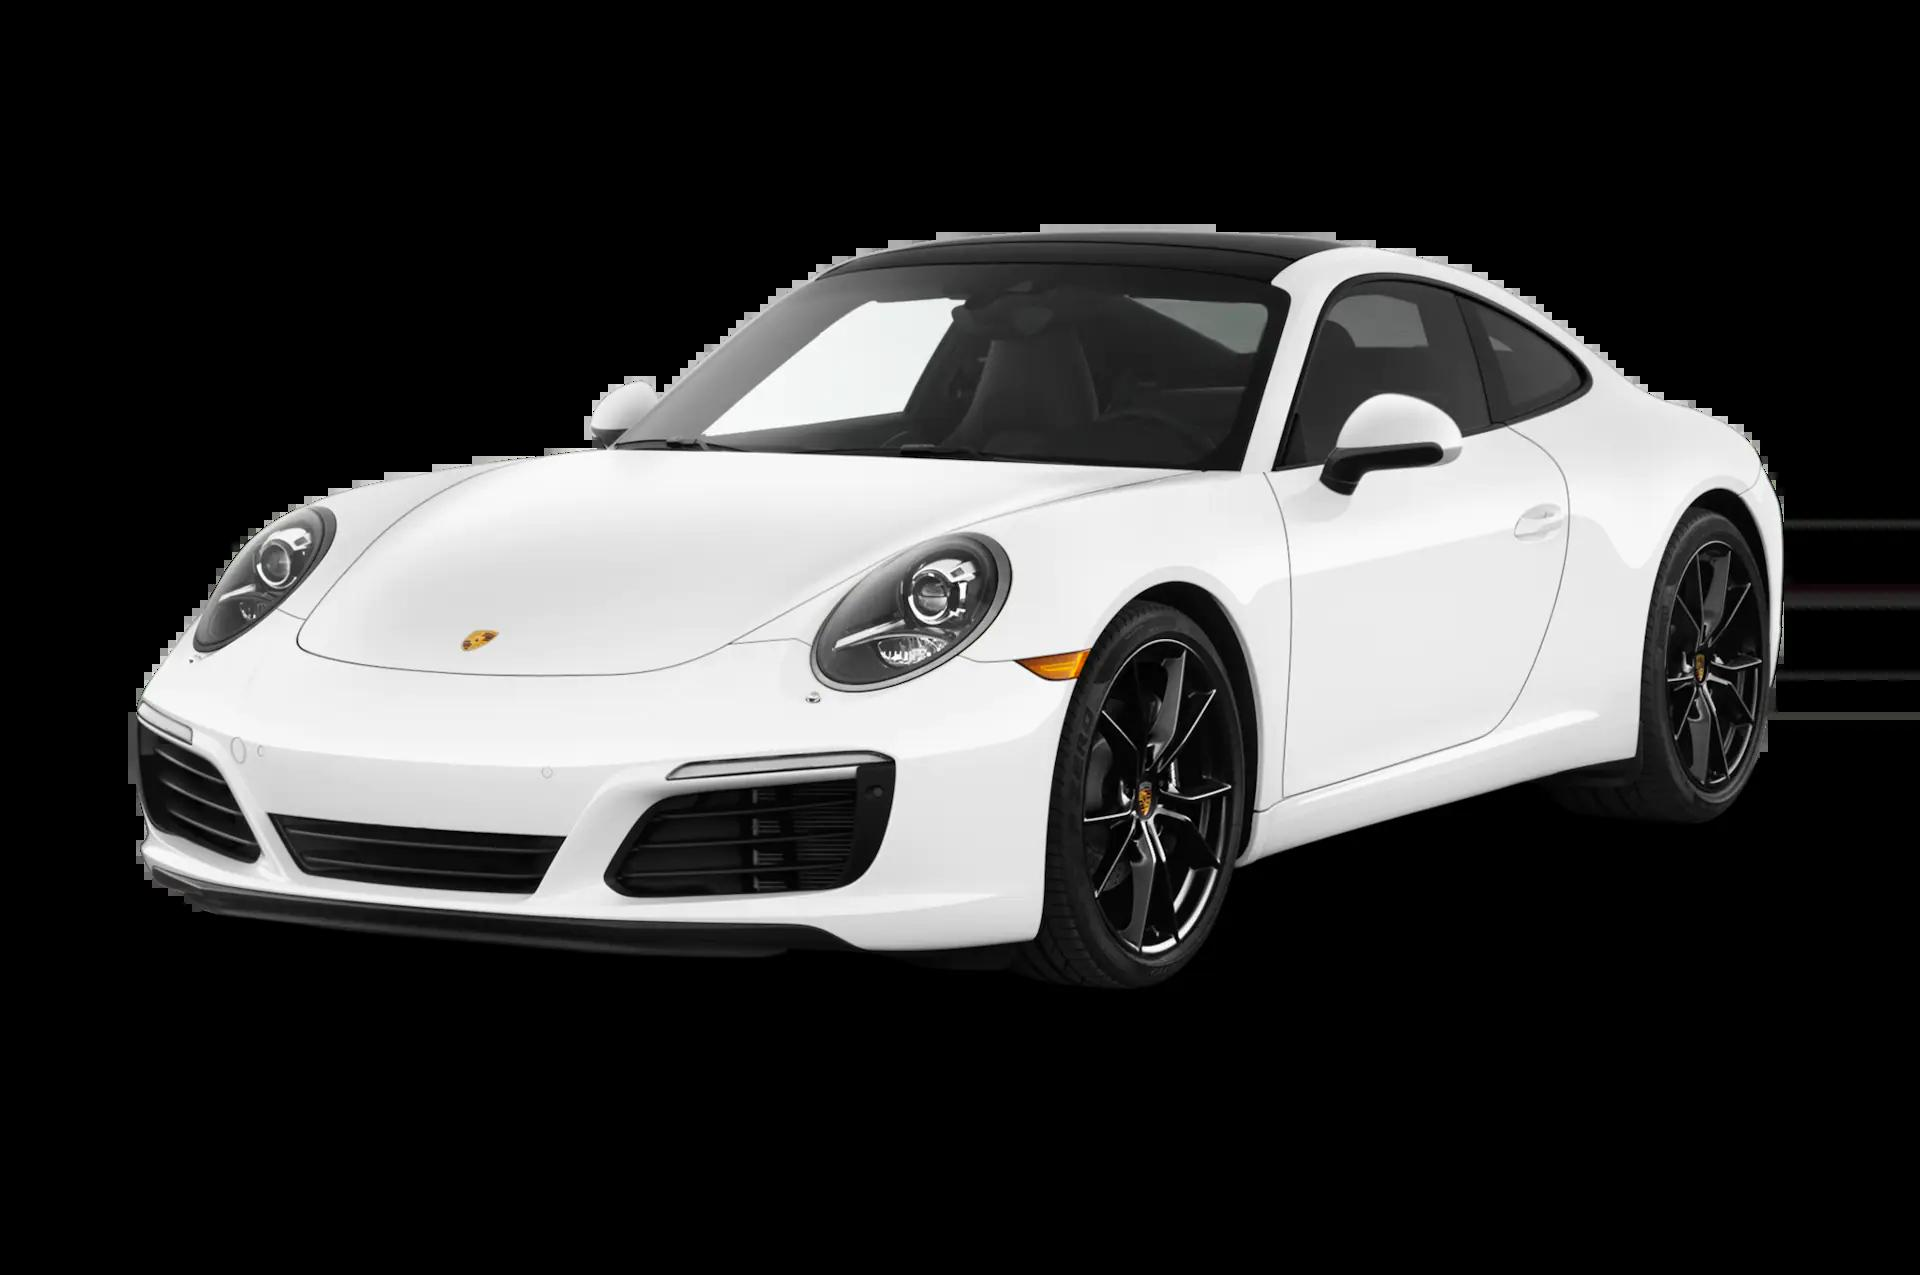porsche: (451, 615, 509, 657)
